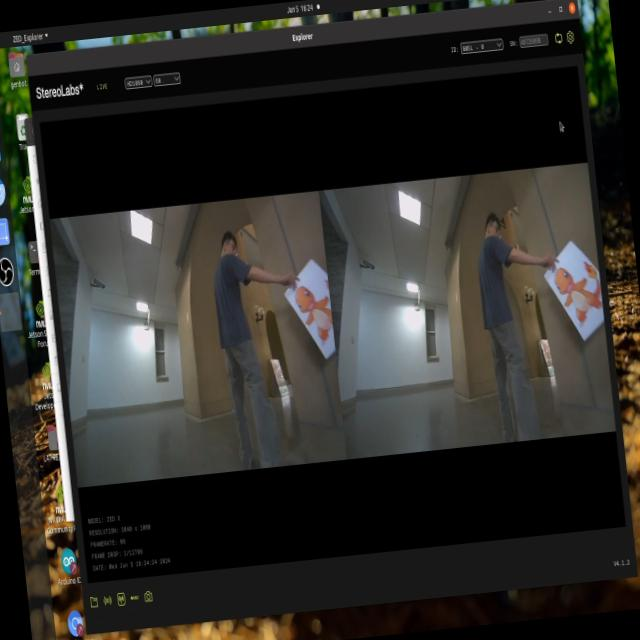red: (550, 248, 602, 336), (299, 268, 336, 348)
